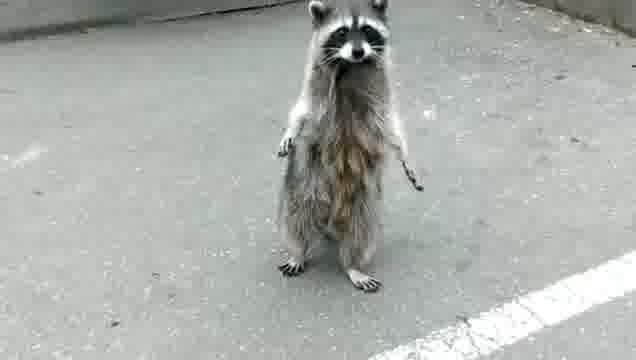raccoon: (275, 0, 423, 297)
